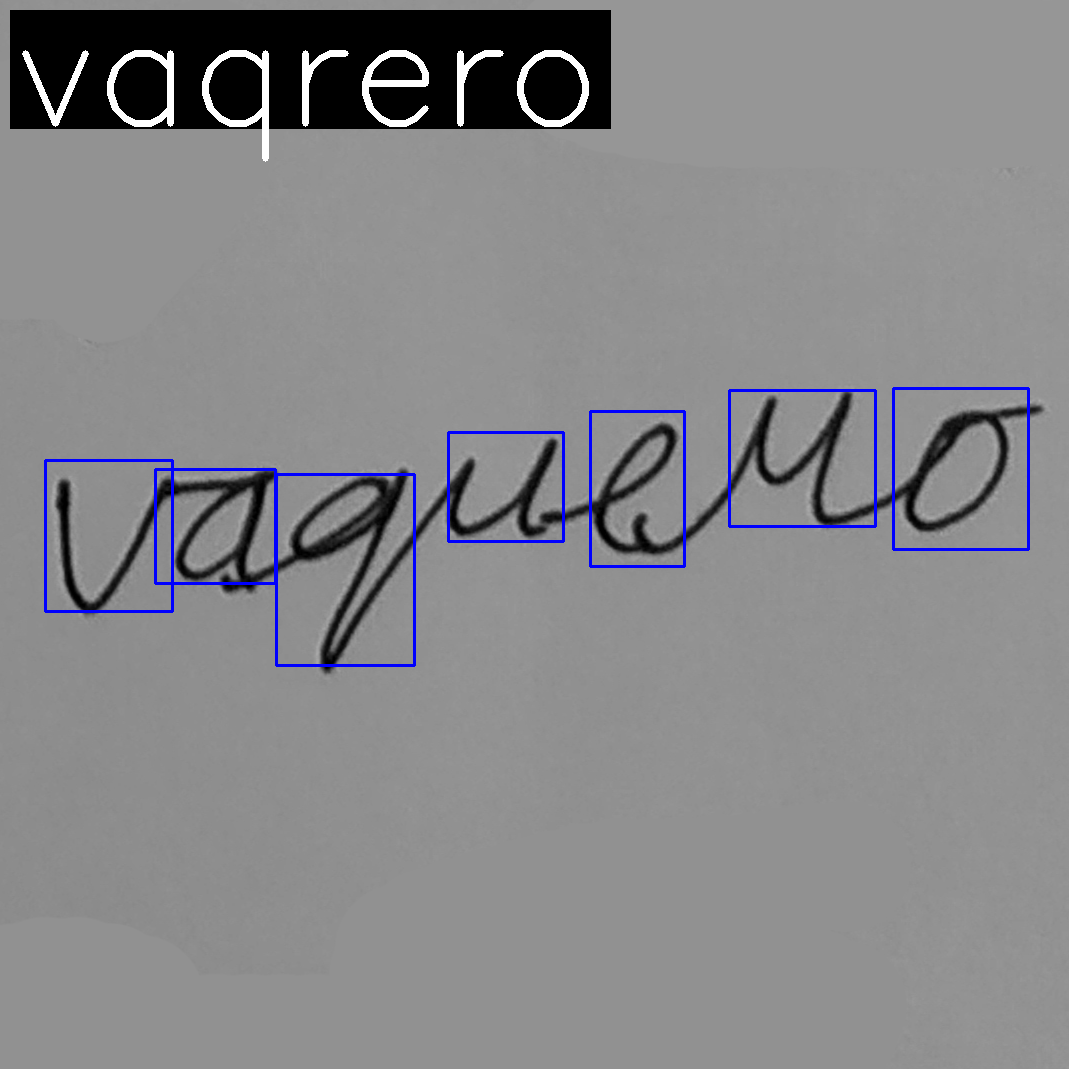a: (172, 466, 276, 597)
e: (589, 419, 695, 559)
o: (899, 407, 1012, 535)
q: (286, 462, 411, 674)
r: (710, 388, 855, 531)
u: (440, 434, 559, 541)
v: (49, 468, 167, 616)
